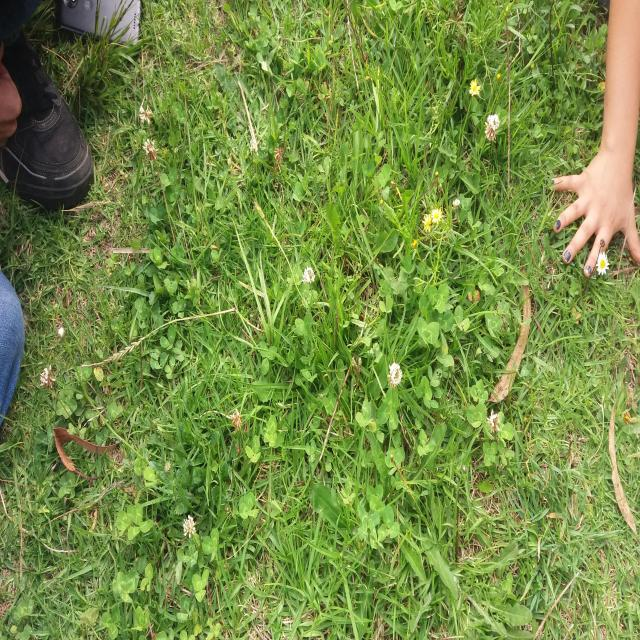Four Leaf Clover: (55, 390, 77, 419), (369, 521, 388, 549), (58, 470, 76, 499), (339, 476, 356, 504), (483, 441, 499, 467), (149, 246, 167, 269), (165, 359, 177, 379)
